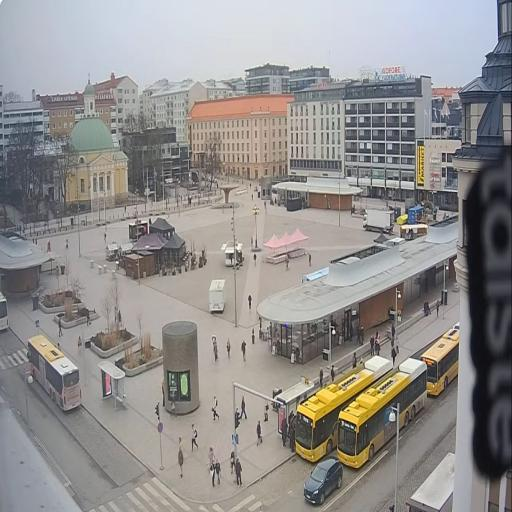bus: (287, 357, 396, 464), (332, 356, 430, 472), (26, 330, 85, 415), (420, 321, 460, 399), (0, 288, 12, 338)
car: (302, 456, 346, 506), (208, 174, 218, 184), (201, 172, 206, 181)
delivery: (361, 206, 397, 236), (191, 170, 202, 184)
